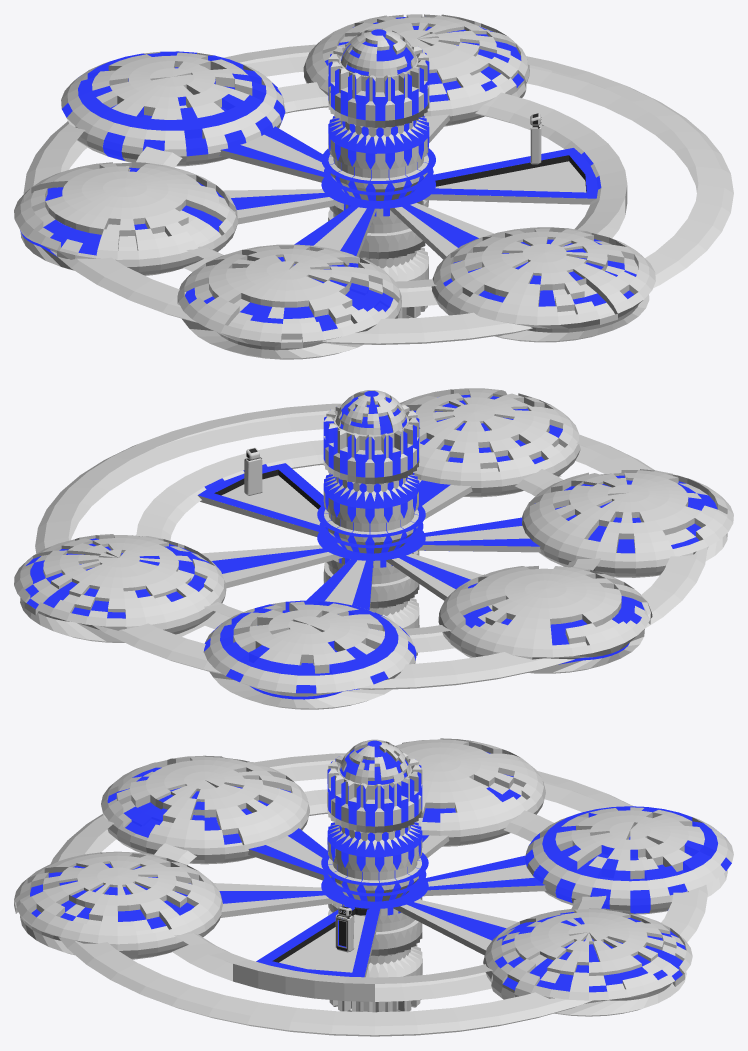
The model's file is spaceStation3.glb.
3 views of the same model, one above another, from view 1: azimuth 30°, elevation 25°; view 2: azimuth 150°, elevation 25°; view 3: azimuth 270°, elevation 25° (orthographic). The views are drawn at different scales.
Visible parts, largest first — view 1: OuterRings, MainCenterRing, Cube; view 2: OuterRings, MainCenterRing, Cube; view 3: OuterRings, MainCenterRing, Cube.
Boxes of the visible parts, bbox=[...] form: OuterRings: bbox=[14, 14, 733, 359]; MainCenterRing: bbox=[321, 144, 435, 208]; Cube: bbox=[530, 113, 543, 164]; OuterRings: bbox=[14, 388, 733, 709]; MainCenterRing: bbox=[317, 504, 425, 560]; Cube: bbox=[244, 447, 262, 495]; OuterRings: bbox=[14, 738, 733, 1036]; MainCenterRing: bbox=[321, 852, 428, 908]; Cube: bbox=[335, 906, 354, 952].
Size of the model in its own units: 104 by 48.07 by 111.
